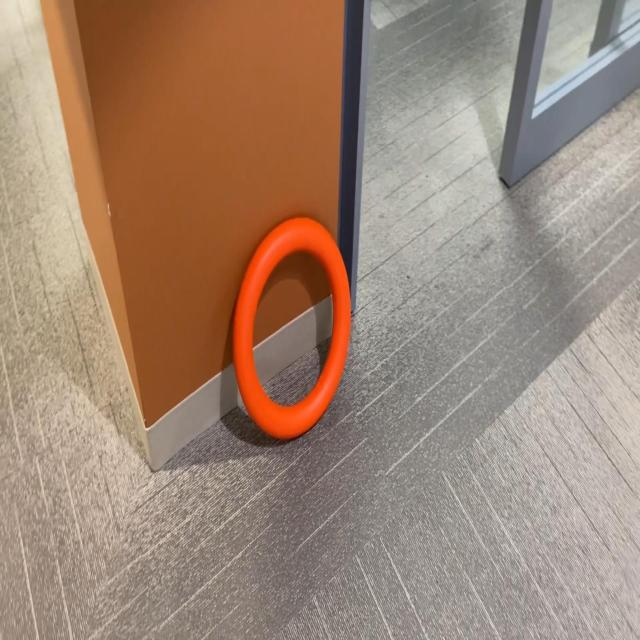note: (232, 217, 352, 440)
